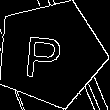P_N: (29, 27, 72, 80)
